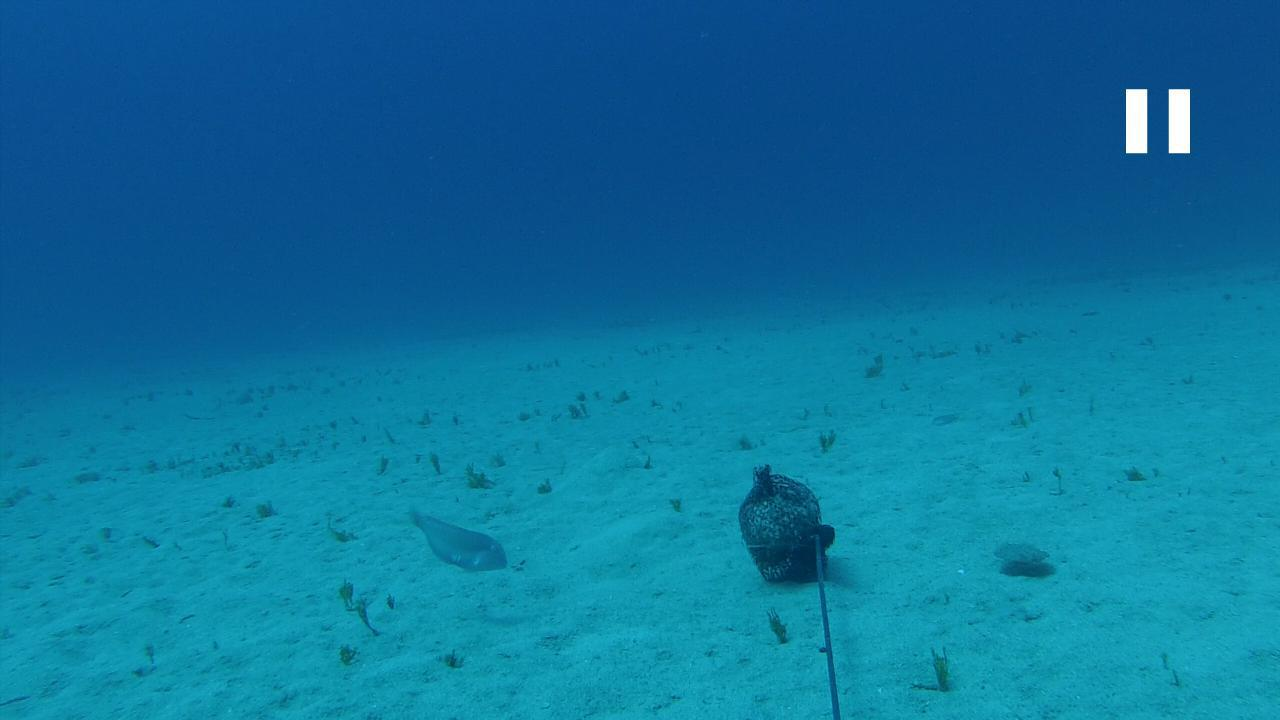bothus: (991, 540, 1055, 578)
raor: (400, 502, 508, 574)
